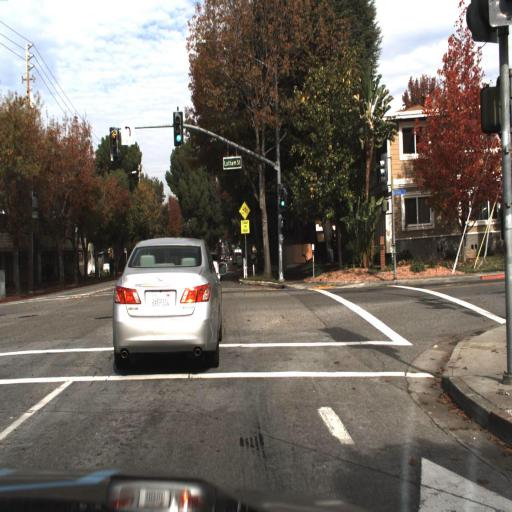car: (110, 233, 227, 366)
trafficLight: (173, 116, 186, 156)
trafficLight-Green: (276, 187, 290, 221)
trafficLight-RedLeft: (107, 134, 120, 175)
